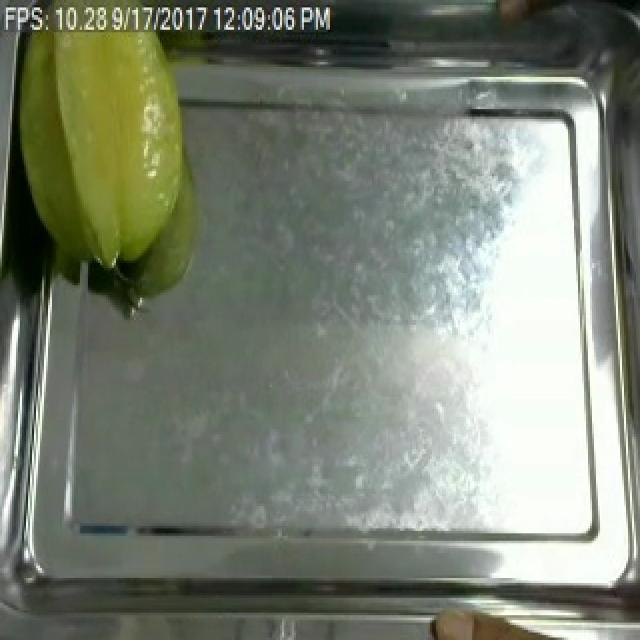fruit: (4, 32, 208, 283)
